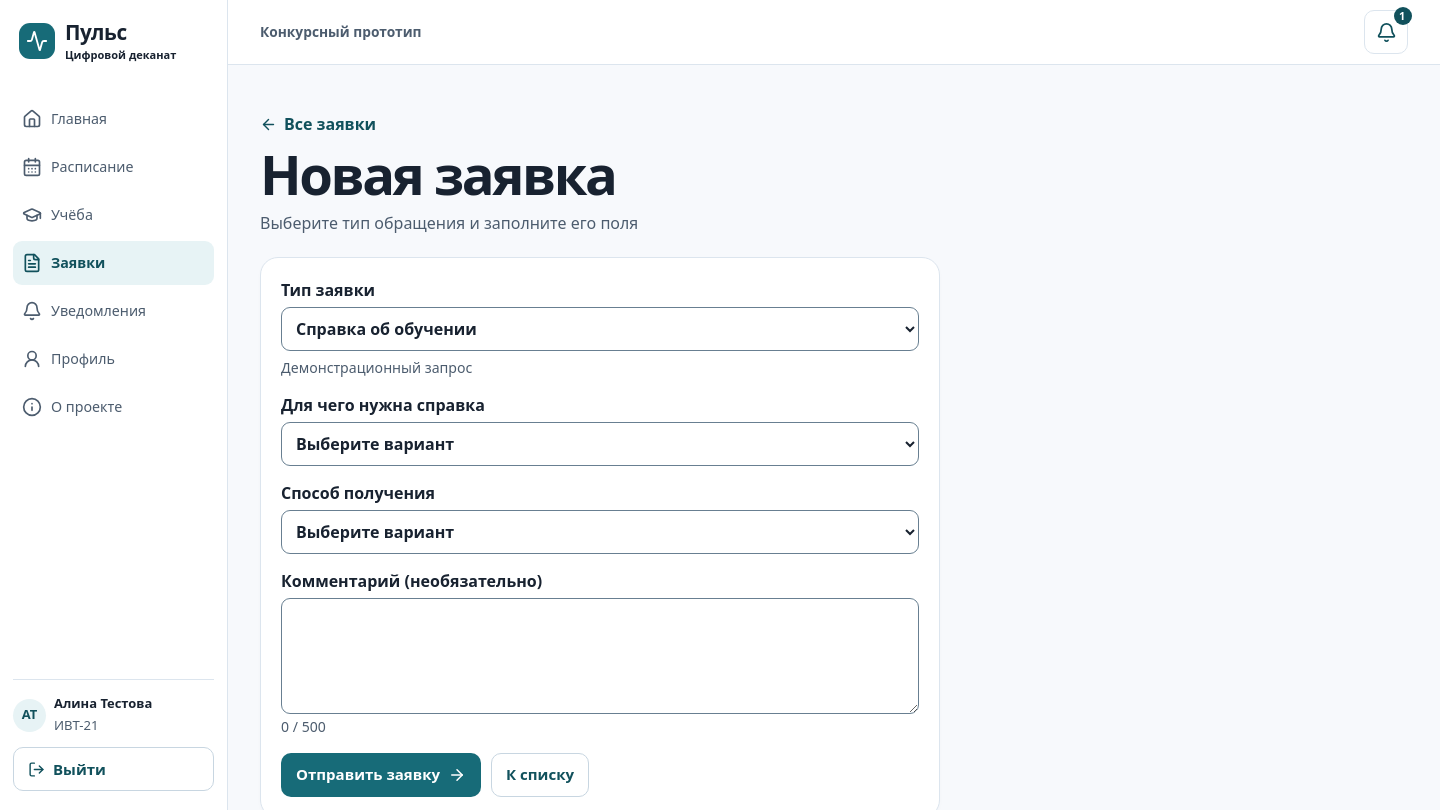
Test: Заявки и уведомления › строит поля по справочнику, показывает ошибку отправки и историю новой заявки
This screenshot has width=1440, height=810.
Select "Заявление в деканат" in the dropdown labelled "Тип заявки" at (600, 329), box [281, 307, 919, 351]
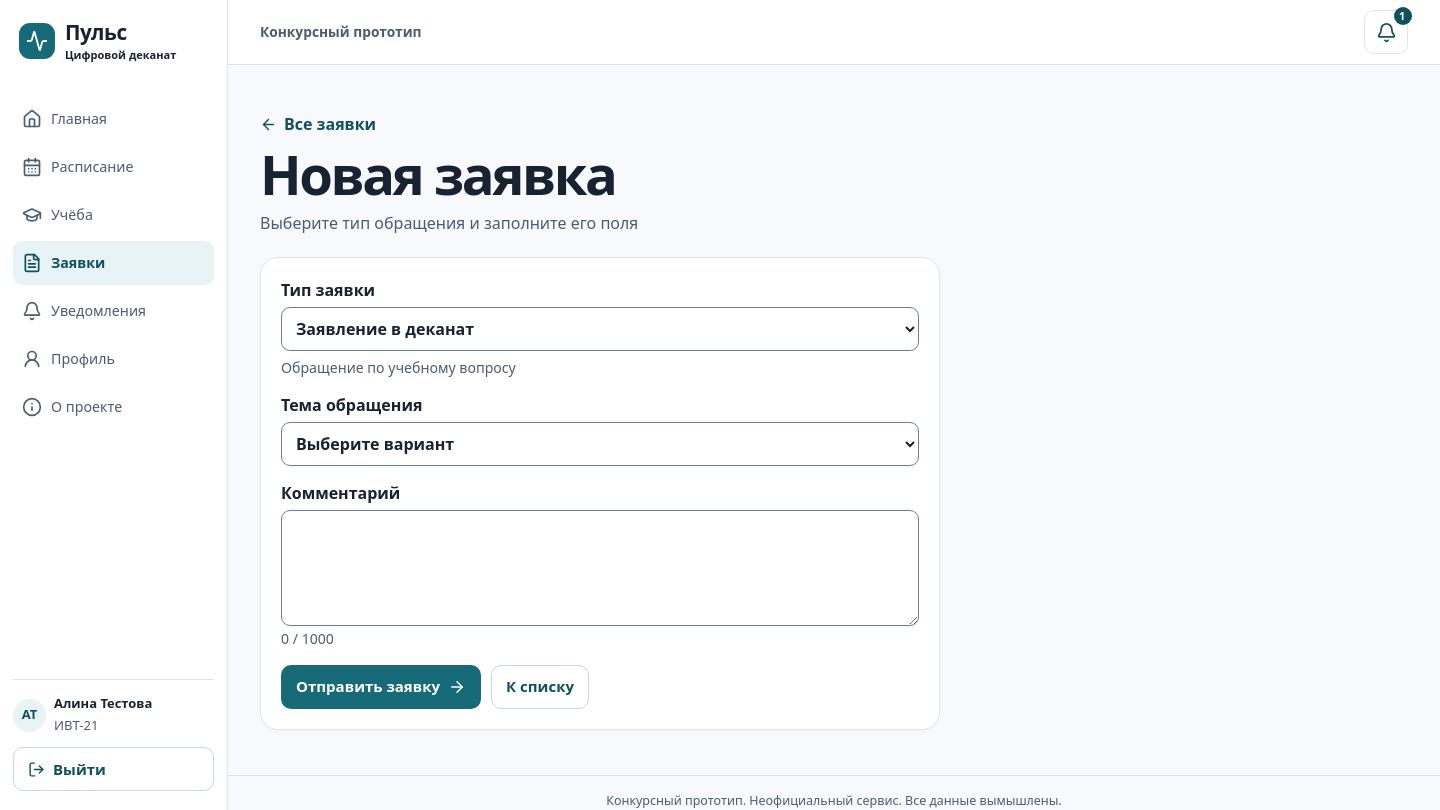
Check: the dropdown labelled "Тема обращения" is shown, box [281, 422, 919, 466]
Select "Справка об обучении" in the dropdown labelled "Тип заявки" at (600, 329), box [281, 307, 919, 351]
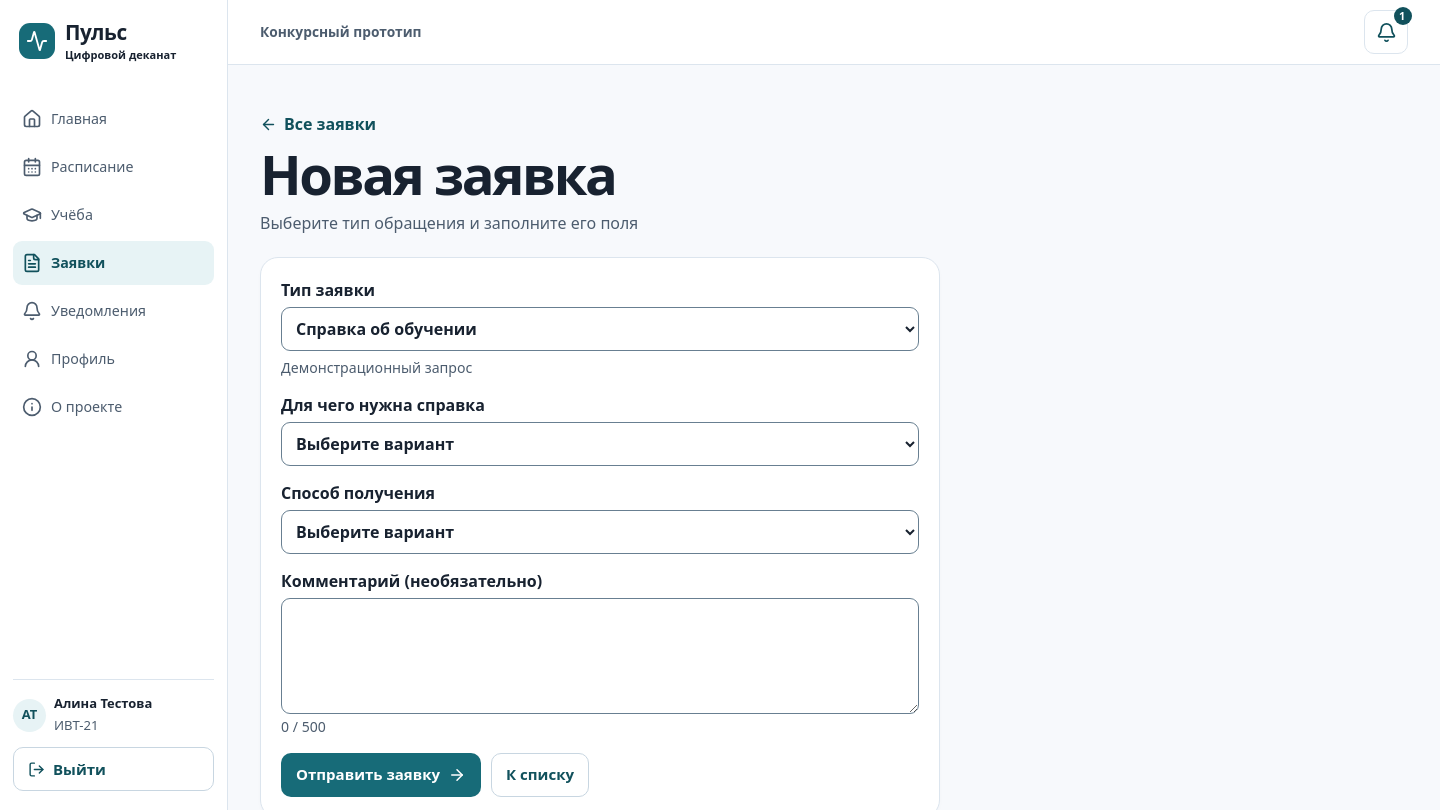
Select "Для работы или практики" in the dropdown labelled "Для чего нужна справка" at (600, 444), box [281, 422, 919, 466]
Select "В электронном виде" in the dropdown labelled "Способ получения" at (600, 532), box [281, 510, 919, 554]
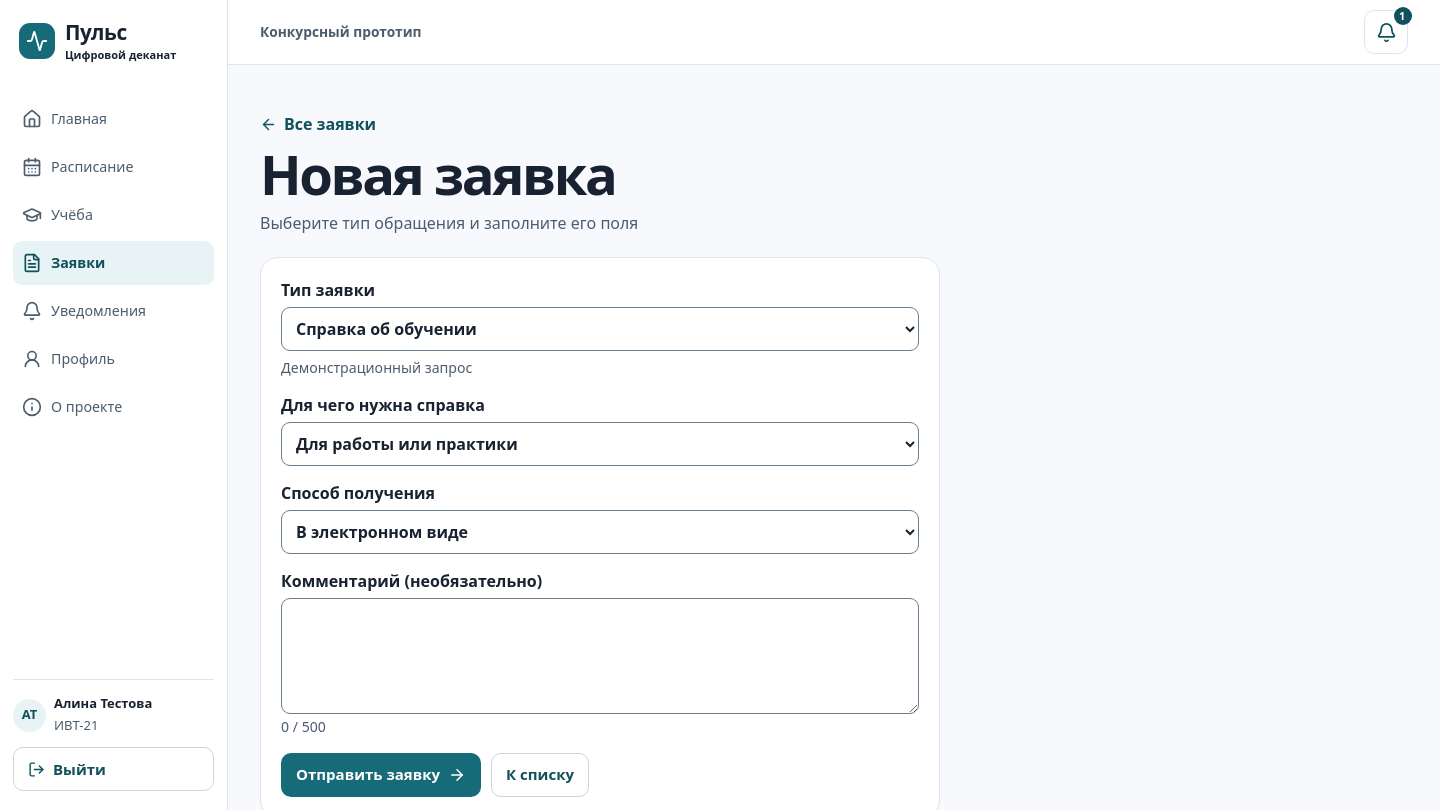
Click the button "Отправить заявку" at (381, 775), box [281, 753, 481, 797]
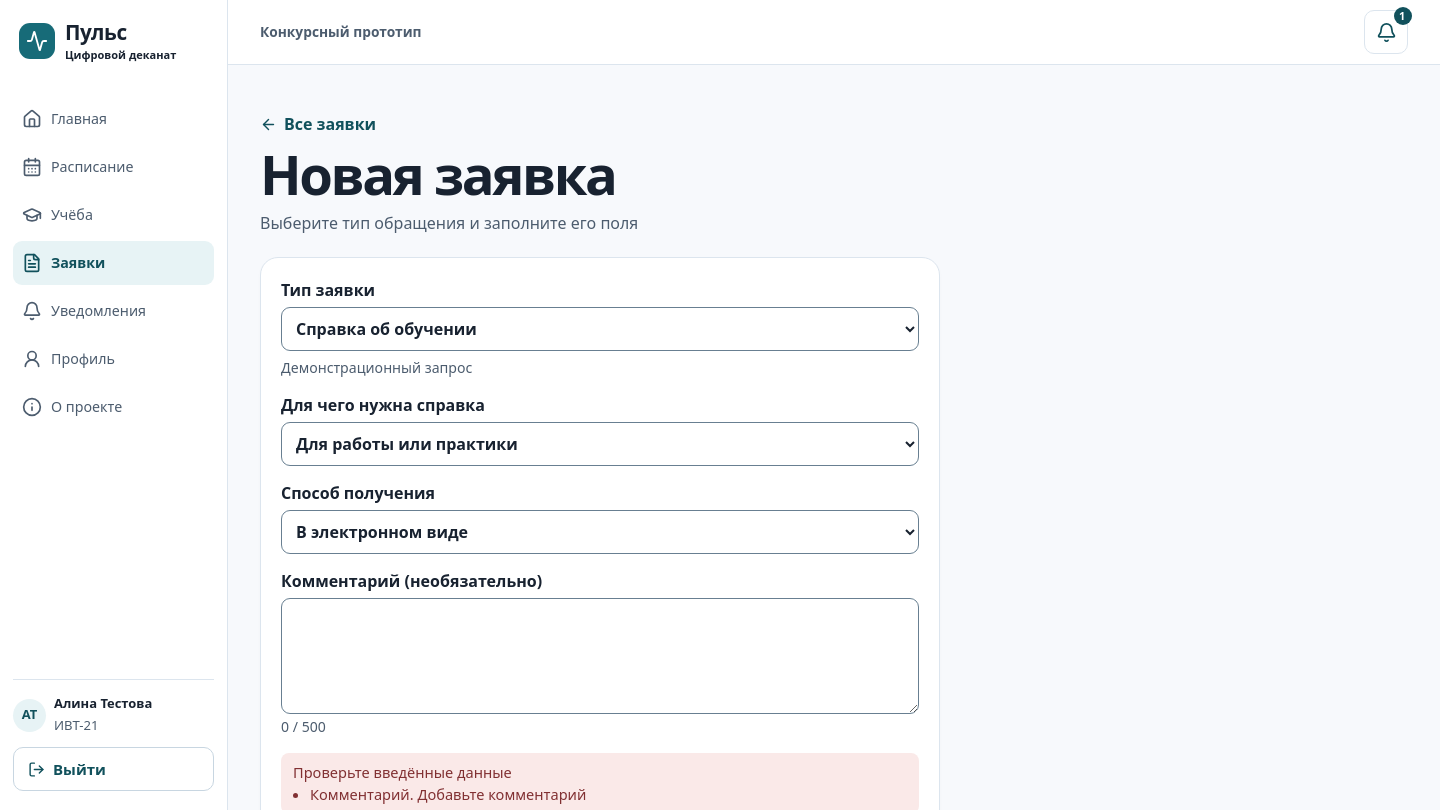
Check: the message shows "Добавьте комментарий", box [417, 784, 586, 804]
Type "Для практики" into the text box labelled "Комментарий (необязательно) 0 / 500" at (600, 656), box [281, 598, 919, 714]
(page scrolled)
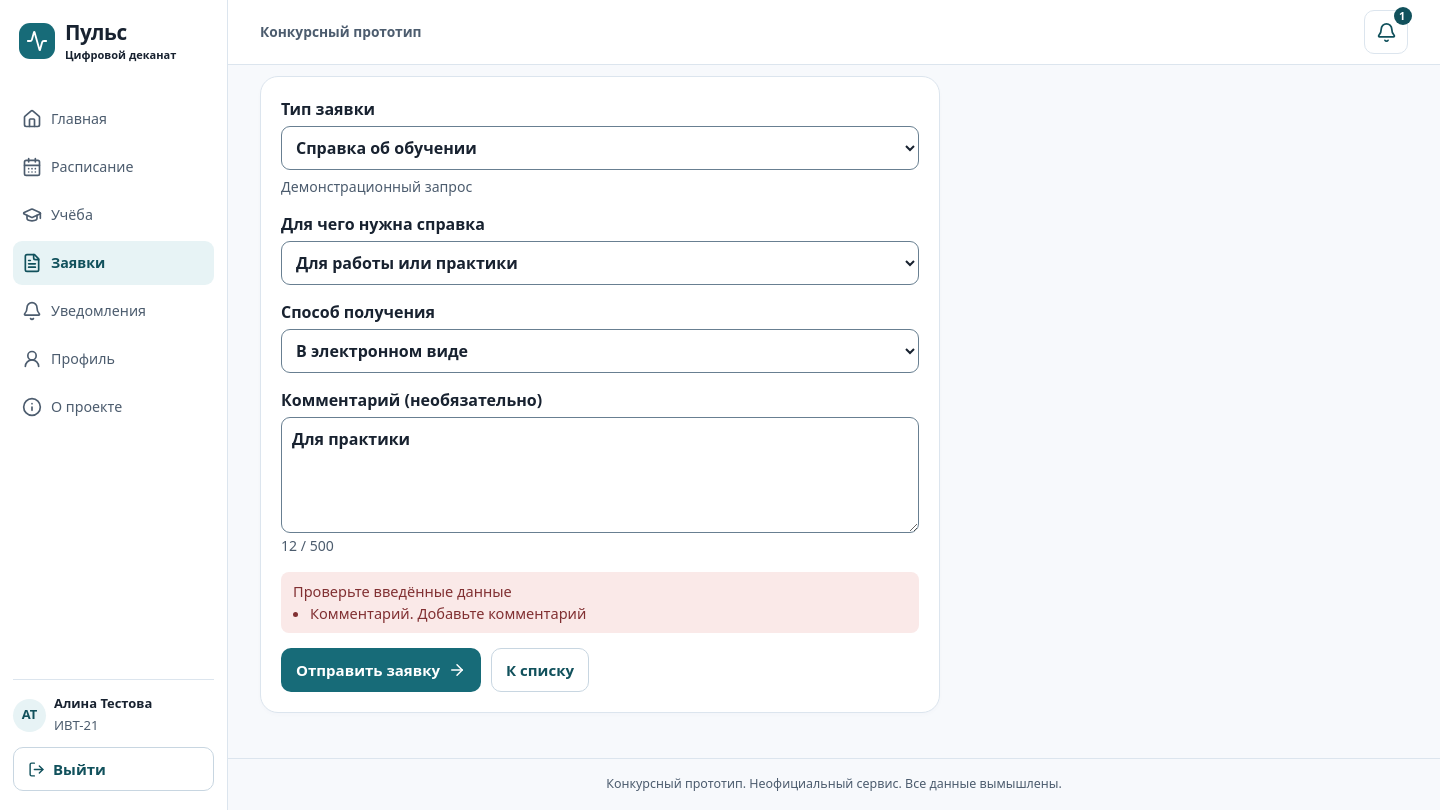
Click the button "Отправить заявку" at (381, 670), box [281, 648, 481, 692]
(page scrolled)
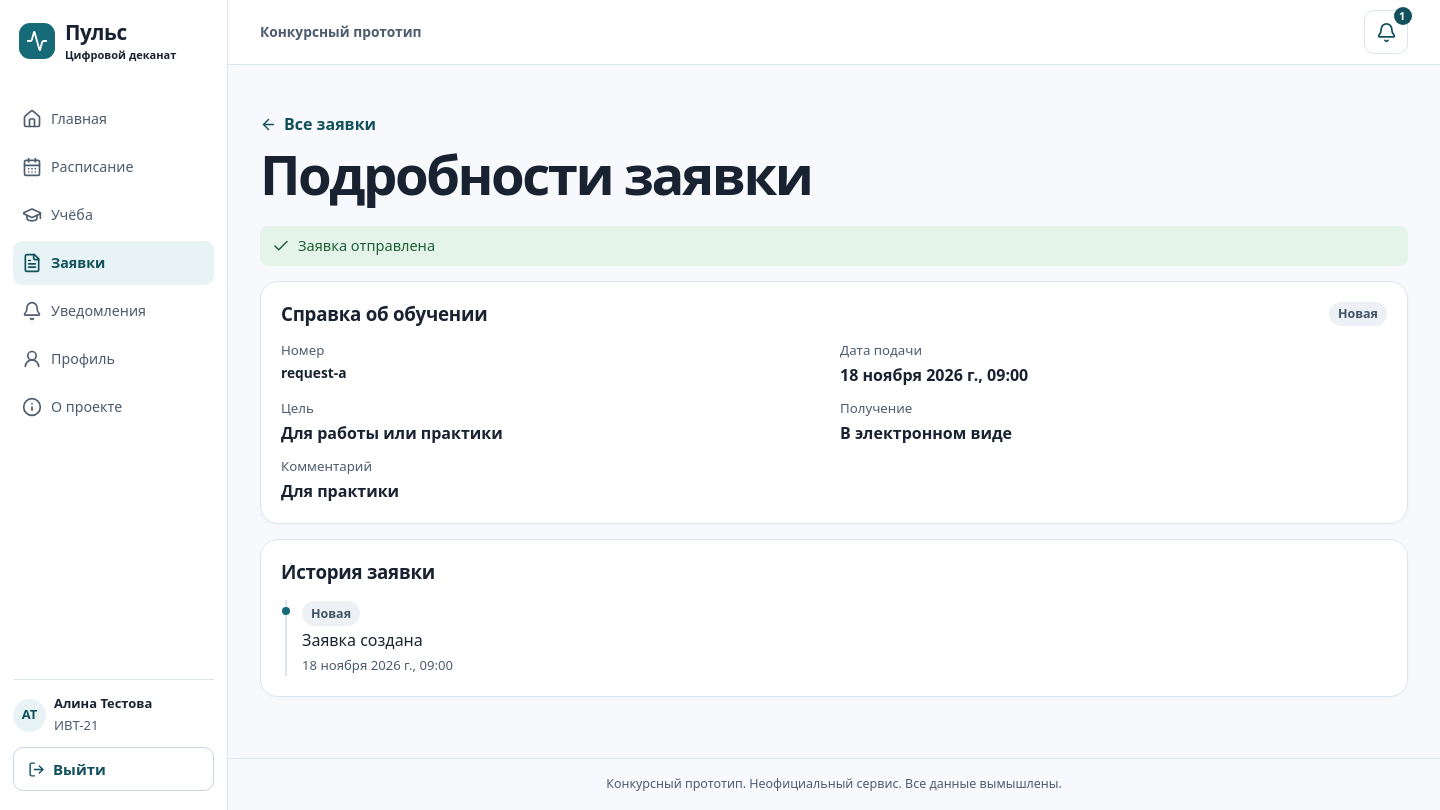
Check: the heading "История заявки" is shown, box [281, 559, 435, 584]
Check: the text "Заявка отправлена" is shown, box [260, 226, 1408, 266]
Check: the text "Заявка создана" is shown, box [302, 628, 423, 650]
